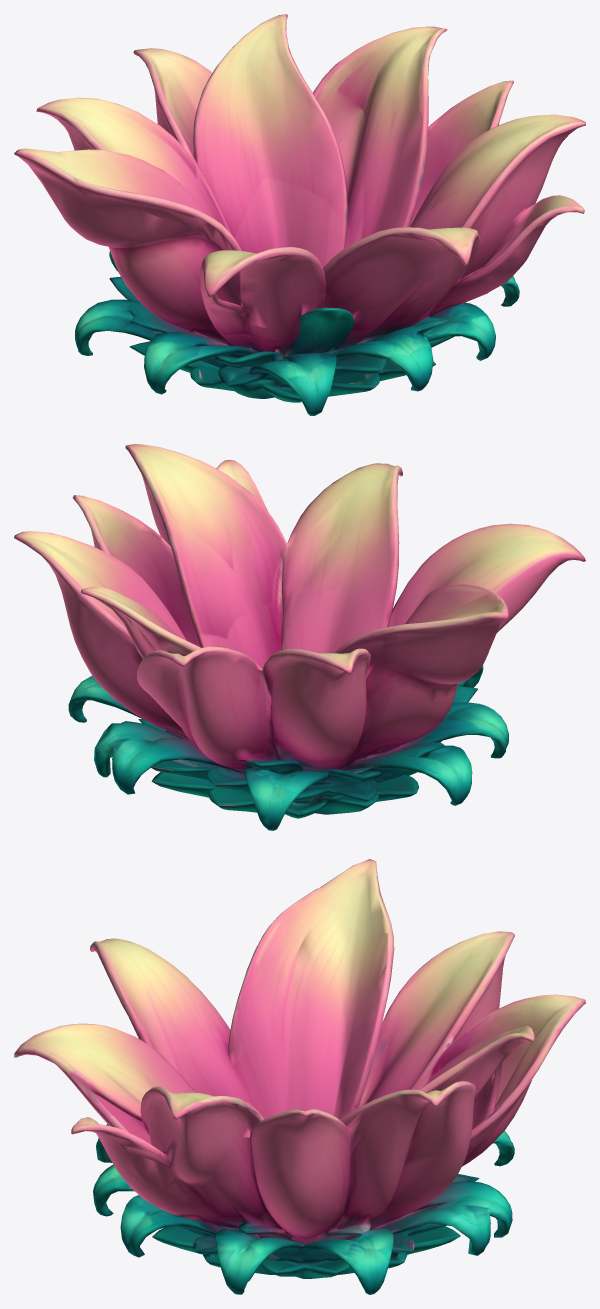
Rendered from pink-portal.glb.
3 views of the same model, one above another, from view 1: azimuth 30°, elevation 25°; view 2: azimuth 150°, elevation 25°; view 3: azimuth 270°, elevation 25° (orthographic). The views are drawn at different scales.
Visible parts, largest first — view 1: Prepared_pink-portal; view 2: Prepared_pink-portal; view 3: Prepared_pink-portal.
Boxes of the visible parts, x1=… form: Prepared_pink-portal: x1=14, y1=14, x2=585, y2=415; Prepared_pink-portal: x1=14, y1=444, x2=585, y2=830; Prepared_pink-portal: x1=14, y1=859, x2=585, y2=1294.
Bounding box in the file's own units: 10.1 × 5.4 × 10.12.
Materials: 1 (1 with a texture image).
